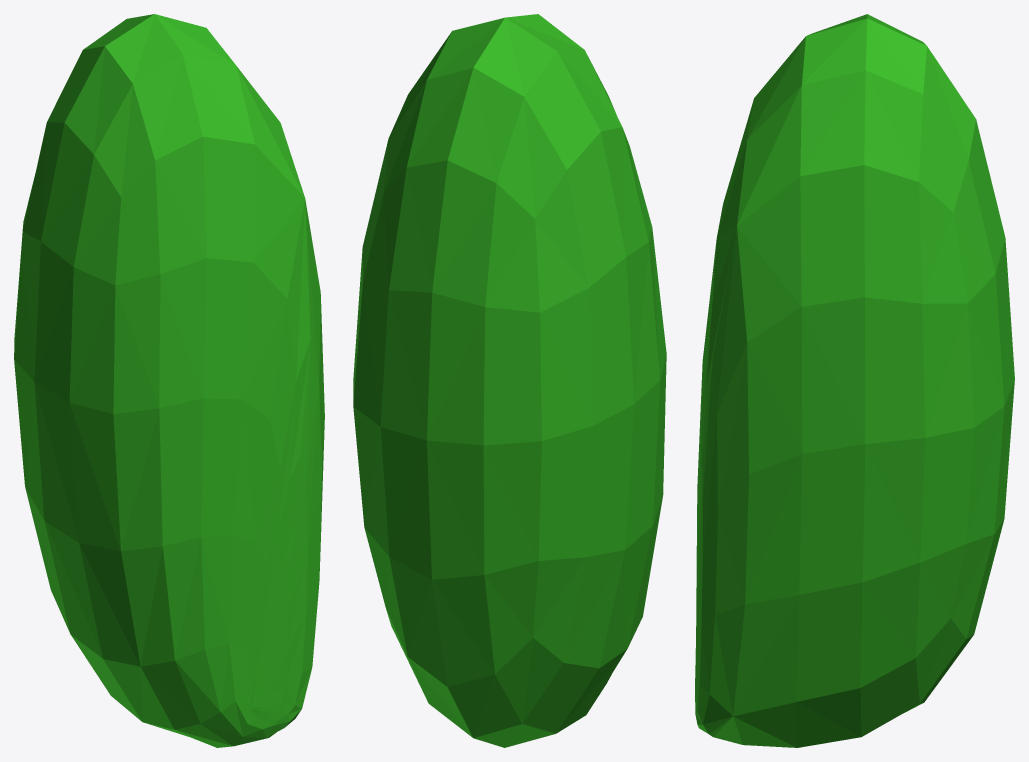
3 views of the same model, side by side, from view 1: azimuth 30°, elevation 25°; view 2: azimuth 150°, elevation 25°; view 3: azimuth 270°, elevation 25° (orthographic). The views are drawn at different scales.
Visible parts, largest first — view 1: 820_Cube.3304; view 2: 820_Cube.3304; view 3: 820_Cube.3304.
Boxes of the visible parts, <box> form: 820_Cube.3304: <box>14,14,324,747</box>; 820_Cube.3304: <box>353,14,666,747</box>; 820_Cube.3304: <box>695,14,1014,747</box>.
Bounding box in the file's own units: 4.02 × 10.9 × 4.38.
